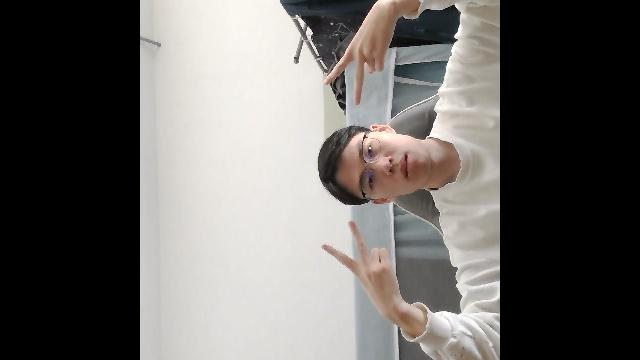yes: (319, 218, 407, 327), (326, 0, 403, 106)
